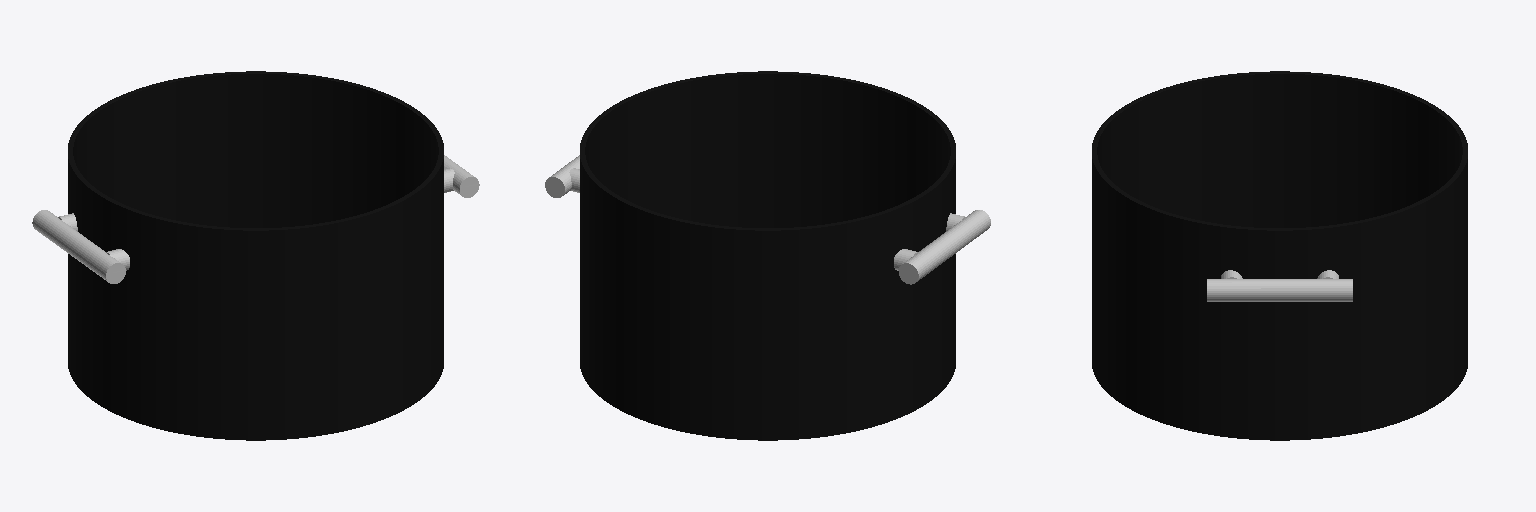
Rendered from Olla.obj.
The picture shows the model from 3 angles: view 1: azimuth 30°, elevation 25°; view 2: azimuth 150°, elevation 25°; view 3: azimuth 270°, elevation 25°; orthographic projection.
Parts seen in each view (by area): view 1: Cylinder, Cylinder.003, Cylinder.004; view 2: Cylinder, Cylinder.003, Cylinder.004; view 3: Cylinder, Cylinder.004.
Boxes of the visible parts, box(x1,y1,x2,y2) form: Cylinder: box(68, 71, 443, 440); Cylinder.003: box(32, 210, 125, 283); Cylinder.004: box(444, 155, 479, 197); Cylinder: box(580, 71, 955, 440); Cylinder.003: box(899, 210, 990, 284); Cylinder.004: box(545, 155, 579, 197); Cylinder: box(1092, 71, 1467, 440); Cylinder.004: box(1207, 279, 1352, 301).
Size of the model in its own units: 2.28 by 1.22 by 1.99.